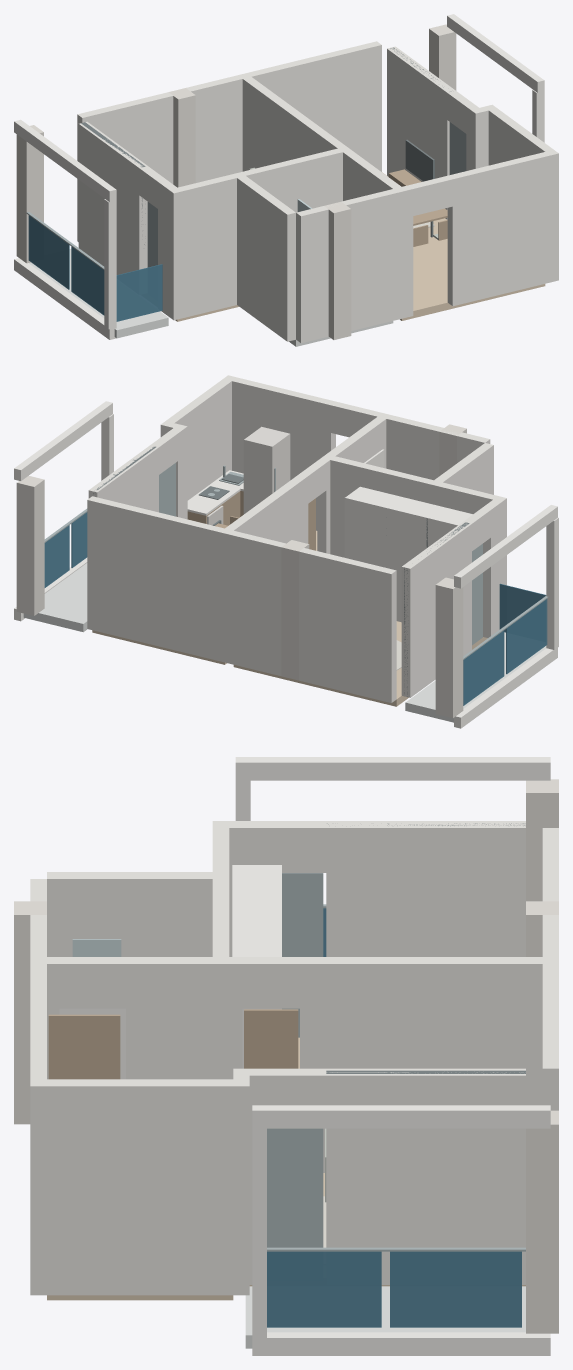
The model's file is apartment.glb.
3 renders of one model, top to bottom at view 1: azimuth 30°, elevation 25°; view 2: azimuth 150°, elevation 25°; view 3: azimuth 270°, elevation 25°, orthographic. The views are drawn at different scales.
Parts seen in each view (by area): view 1: South wall east, North exterior east, South wall west, West wing south wall, Bathroom west wall, West exterior north, East exterior north, Divider north, North exterior west, Bathroom north wall, West balcony glass (×2), South Column (+22 smaller); view 2: North exterior east, North exterior west, Wardrobe, West exterior north, South wall east, East exterior bay, West balcony glass (×2), NE balcony Column, NW balcony Column, Bathroom north wall, South wall west, Divider north (+29 smaller); view 3: East exterior bay, East exterior north, Divider north, West exterior north, East balcony glass (×2), Divider mid, Bathroom west wall, West balcony soffit, East balcony soffit, East white fascia, NE balcony Column, East balcony open door (+28 smaller).
Boxes of the visible parts, bbox=[...] form: South wall east: bbox=[447, 150, 558, 306]; North exterior east: bbox=[186, 41, 381, 182]; South wall west: bbox=[296, 185, 413, 343]; West wing south wall: bbox=[168, 172, 245, 320]; Bathroom west wall: bbox=[237, 176, 295, 341]; West exterior north: bbox=[78, 121, 147, 274]; East exterior north: bbox=[387, 46, 455, 219]; Divider north: bbox=[242, 77, 324, 171]; North exterior west: bbox=[77, 92, 173, 241]; Bathroom north wall: bbox=[241, 148, 342, 212]; West balcony glass (×2): bbox=[28, 215, 104, 315]; South Column: bbox=[324, 202, 351, 339]; North exterior east: bbox=[87, 496, 285, 675]; North exterior west: bbox=[299, 548, 396, 702]; Wardrobe: bbox=[344, 486, 472, 622]; West exterior north: bbox=[401, 521, 471, 697]; South wall east: bbox=[223, 375, 335, 530]; East exterior bay: bbox=[166, 379, 231, 500]; West balcony glass (×2): bbox=[463, 599, 547, 705]; NE balcony Column: bbox=[16, 476, 44, 615]; NW balcony Column: bbox=[435, 577, 463, 717]; Bathroom north wall: bbox=[330, 456, 433, 557]; South wall west: bbox=[371, 411, 490, 480]; Divider north: bbox=[225, 474, 308, 543]; East exterior bay: bbox=[47, 1079, 233, 1295]; East exterior north: bbox=[326, 1068, 525, 1284]; Divider north: bbox=[300, 957, 542, 1172]; West exterior north: bbox=[326, 821, 525, 956]; East balcony glass (×2): bbox=[267, 1251, 521, 1327]; Divider mid: bbox=[127, 957, 242, 1079]; Bathroom west wall: bbox=[47, 872, 212, 1079]; West balcony soffit: bbox=[235, 757, 550, 780]; East balcony soffit: bbox=[252, 1105, 550, 1128]; East white fascia: bbox=[252, 1332, 550, 1355]; NE balcony Column: bbox=[526, 1110, 558, 1333]; East balcony open door: bbox=[267, 1128, 323, 1247].
Size of the model in its own units: 10.17 by 3.28 by 6.61.
